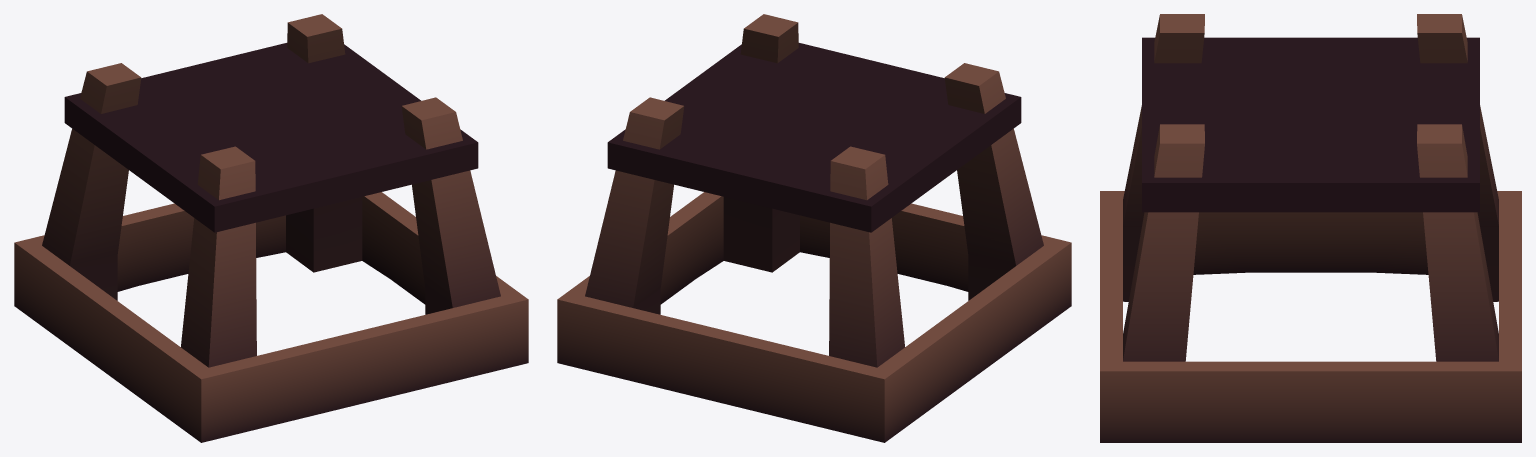
The model's file is Tower1.fbx.
3 renders of one model, left to right at view 1: azimuth 30°, elevation 25°; view 2: azimuth 150°, elevation 25°; view 3: azimuth 270°, elevation 25°, orthographic. The views are drawn at different scales.
Parts seen in each view (by area): view 1: Tower1; view 2: Tower1; view 3: Tower1.
Part boxes in pixels (x1=…): Tower1: x1=14, y1=14, x2=528, y2=442; Tower1: x1=557, y1=14, x2=1071, y2=442; Tower1: x1=1100, y1=14, x2=1521, y2=442.
Bounding box in the file's own units: 226 × 162 × 224.
